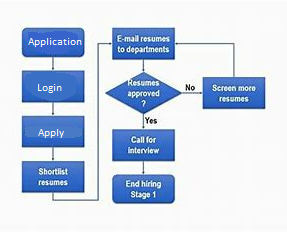arrow: (50, 42, 112, 201), (174, 41, 235, 77), (140, 159, 146, 175), (141, 112, 146, 130), (50, 101, 56, 115), (50, 55, 55, 71), (178, 91, 202, 94), (141, 59, 146, 72), (51, 145, 55, 160)
decision: (103, 71, 180, 115)
process: (110, 26, 176, 61), (20, 159, 86, 194), (201, 75, 266, 110), (20, 69, 85, 104), (111, 128, 176, 162), (20, 114, 85, 148), (21, 26, 86, 59), (111, 173, 176, 205)
text: (114, 33, 171, 54), (126, 78, 161, 108), (211, 82, 257, 104), (124, 178, 162, 200), (126, 134, 160, 154), (36, 166, 69, 186), (26, 37, 83, 48), (37, 128, 65, 139), (36, 83, 62, 94), (143, 115, 159, 125), (184, 82, 195, 92)
